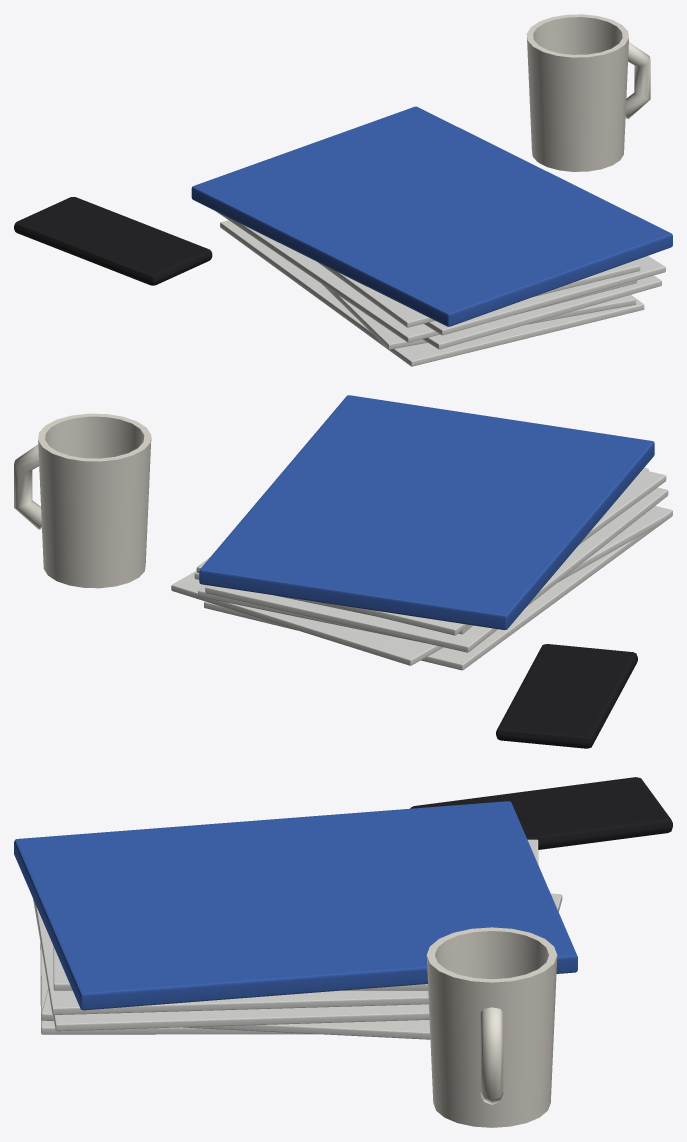
File: do_tren_ban_1.glb
3 renders of one model, top to bottom at view 1: azimuth 30°, elevation 25°; view 2: azimuth 150°, elevation 25°; view 3: azimuth 270°, elevation 25°, orthographic. The views are drawn at different scales.
Visible parts, largest first — view 1: do_tren_ban_1; view 2: do_tren_ban_1; view 3: do_tren_ban_1.
Part boxes in pixels (bbox=[...]): do_tren_ban_1: bbox=[14, 14, 672, 366]; do_tren_ban_1: bbox=[14, 395, 672, 748]; do_tren_ban_1: bbox=[14, 777, 672, 1127].
Bounding box in the file's own units: 0.5189 × 0.1005 × 0.4035.
